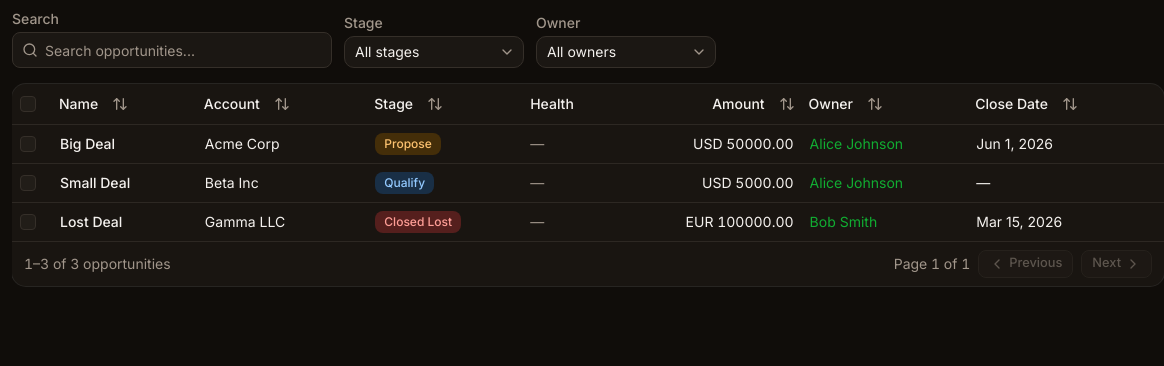
Test case: OpportunityListTable › selects all rows when header checkbox is clicked
Click the checkbox named "Select all" at (28, 104), box [20, 96, 36, 112]
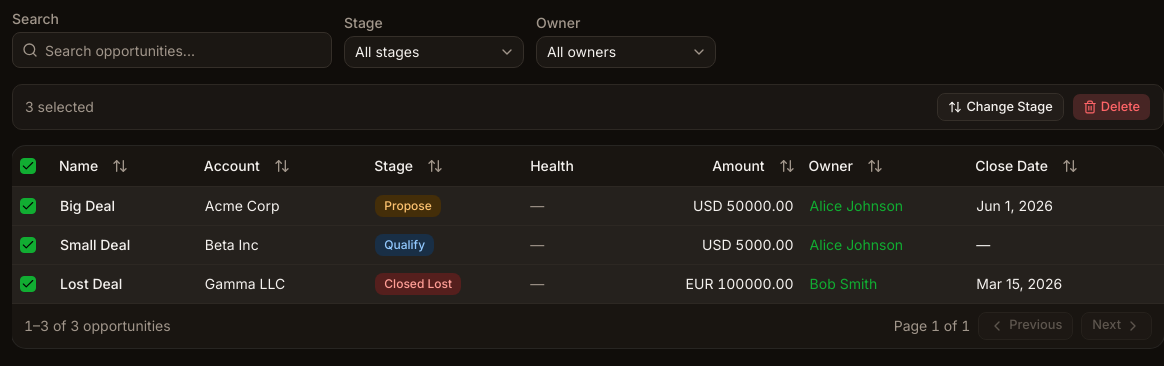
Check: the text "3 selected" is shown, box [25, 97, 94, 117]
